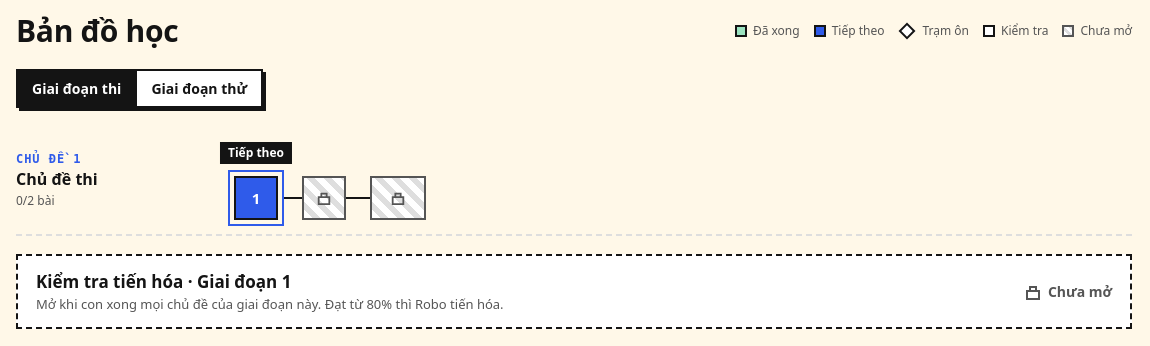
Scenario: MapScreen stage tabs › a click on a tab shows the panel of that stage, named by the tab
This screenshot has width=1150, height=346.
Click the tab "Giai đoạn thử". click: (199, 88)
box: [137,71,261,106]
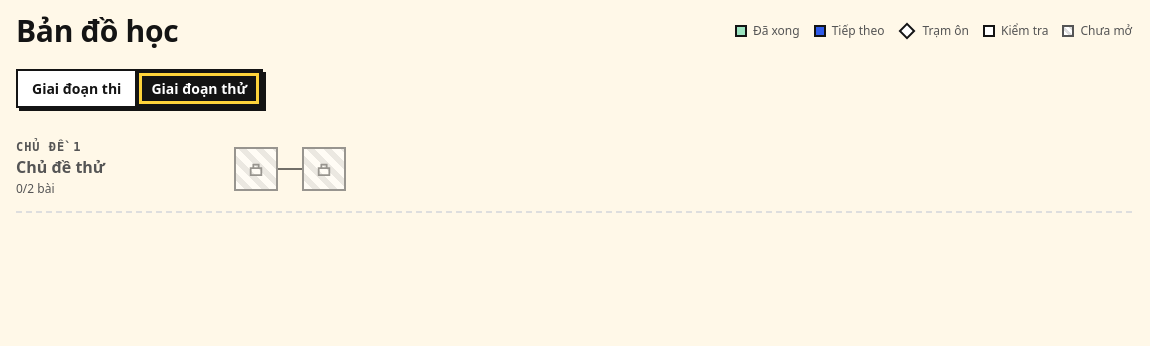
Result: the heading "Chủ đề thử" is shown at [16,156,105,178]
Result: the heading "Chủ đề thi" is gone
